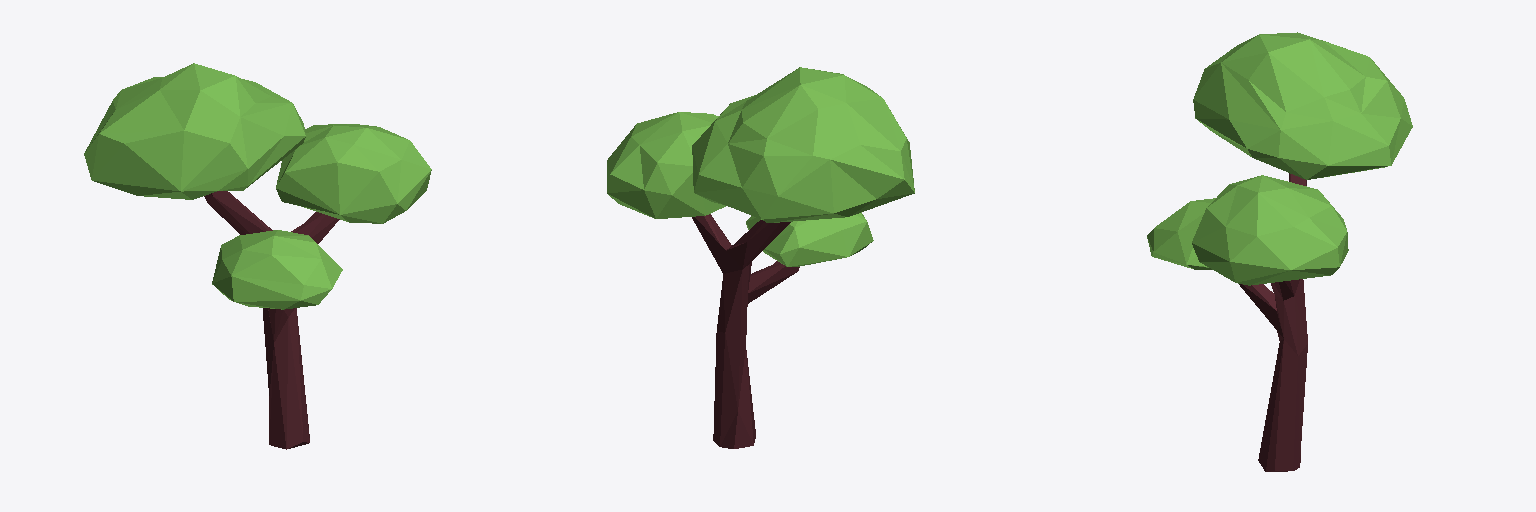
File: tree-branched.obj
The picture shows the model from 3 angles: view 1: azimuth 30°, elevation 25°; view 2: azimuth 150°, elevation 25°; view 3: azimuth 270°, elevation 25°; orthographic projection.
Parts seen in each view (by area): view 1: leaves_Icosphere, trunk_Cube; view 2: leaves_Icosphere, trunk_Cube; view 3: leaves_Icosphere, trunk_Cube.
Boxes of the visible parts, <box> form: leaves_Icosphere: <box>84,63,431,309</box>; trunk_Cube: <box>204,191,339,449</box>; leaves_Icosphere: <box>607,67,914,266</box>; trunk_Cube: <box>692,214,799,448</box>; leaves_Icosphere: <box>1147,32,1412,285</box>; trunk_Cube: <box>1239,173,1307,471</box>.
Size of the model in its own units: 7.34 by 8.72 by 5.43.